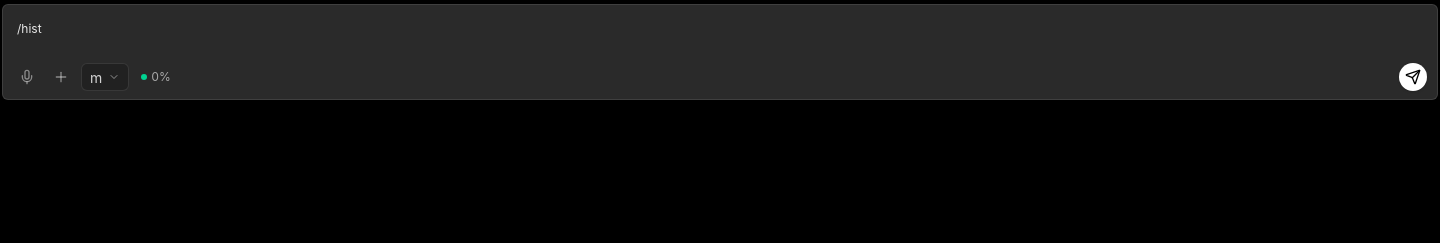
Test: AgentInput /historyPrompt 历史提示词面板 › 从一级命令面板选中 /historyPrompt 后进入二级面板
Focus the field with class "cm-content". click: (29, 28)
box: [17,21,42,36]
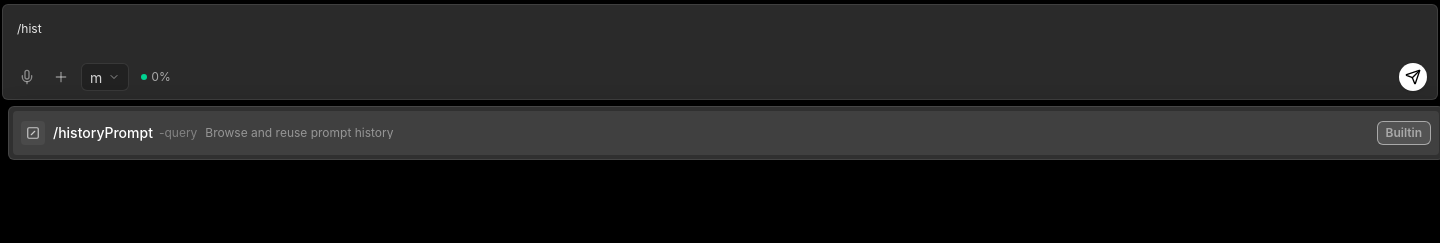
Press Enter in the field with class "cm-content", box [17,21,42,36]
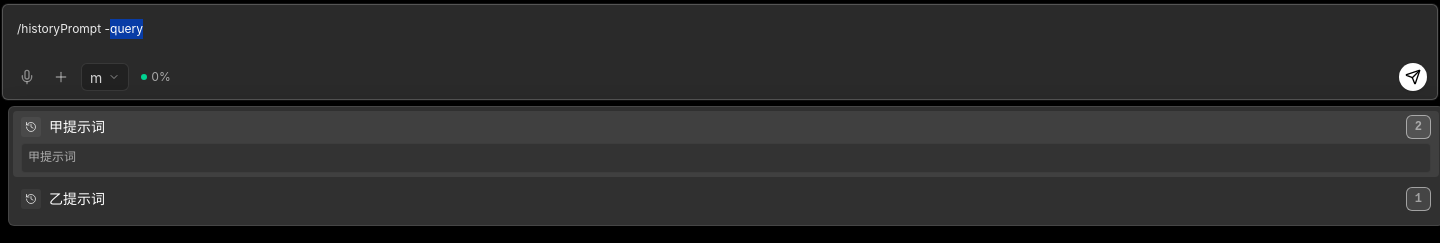
Expected: the field with class "cm-content" reads "/historyPrompt -query", [17,21,143,36]
Expected: the number of options is 2, [13,111,1439,177]; [21,187,1431,211]
Expected: the option "甲提示词 2 甲提示词" is shown, [13,111,1439,177]
